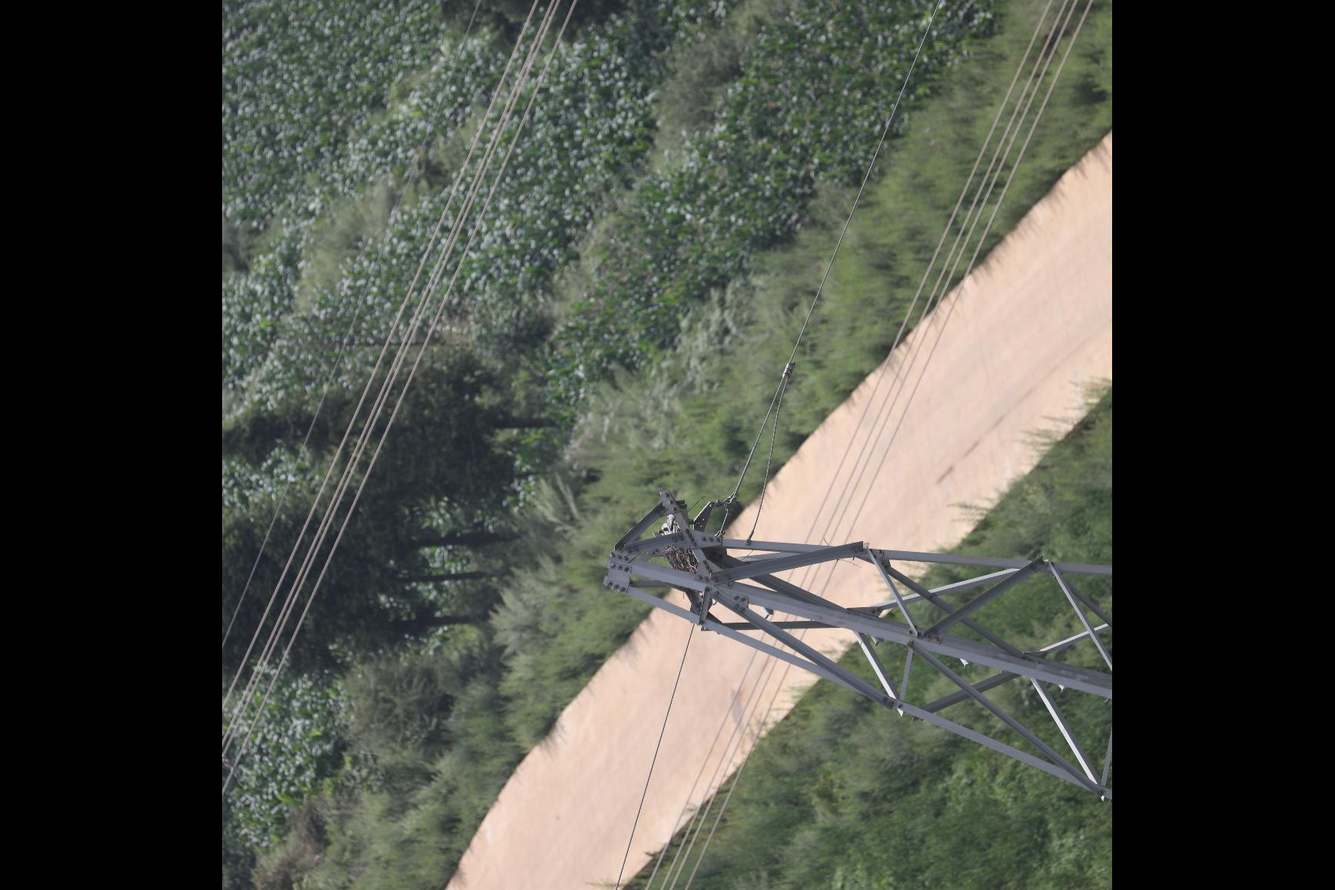nest: (661, 546, 700, 576)
